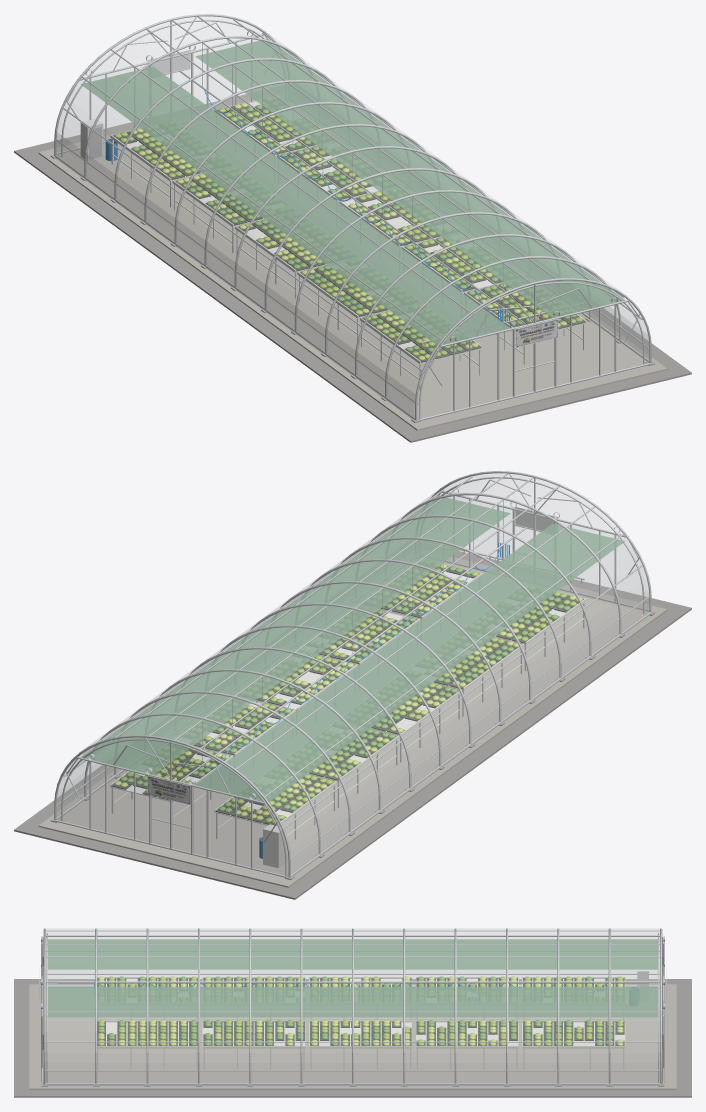
File: vivero.glb
The picture shows the model from 3 angles, top to bottom: view 1: azimuth 30°, elevation 25°; view 2: azimuth 150°, elevation 25°; view 3: azimuth 270°, elevation 25°; orthographic projection. The views are drawn at different scales.
Visible parts, largest first — view 1: plastico_cubierta, malla_sombra, piso, acero, malla_frontones, grava_borde, malla_lateral, bandeja, metal_blanco, planta_verde1, planta_verde2, planta_verde3 (+3 smaller); view 2: plastico_cubierta, malla_sombra, piso, acero, malla_frontones, grava_borde, malla_lateral, bandeja, metal_blanco, planta_verde2, planta_verde1, planta_verde3 (+4 smaller); view 3: plastico_cubierta, malla_sombra, piso, acero, malla_lateral, grava_borde, metal_blanco, bandeja, planta_verde1, planta_verde2, planta_verde3.
Part boxes in pixels (x1,y1,x2,y2): plastico_cubierta: (55, 14, 627, 392); malla_sombra: (80, 38, 624, 345); piso: (38, 100, 667, 430); acero: (54, 14, 651, 420); malla_frontones: (57, 36, 650, 419); grava_borde: (14, 94, 691, 442); malla_lateral: (54, 131, 648, 419); bandeja: (113, 105, 585, 362); metal_blanco: (110, 101, 586, 389); planta_verde1: (114, 106, 582, 356); planta_verde2: (132, 104, 576, 352); planta_verde3: (129, 102, 567, 360); plastico_cubierta: (78, 471, 650, 849); malla_sombra: (81, 495, 625, 802); piso: (38, 557, 667, 887); acero: (54, 471, 651, 877); malla_frontones: (55, 493, 648, 876); grava_borde: (14, 551, 691, 899); malla_lateral: (57, 588, 651, 876); bandeja: (111, 566, 583, 825); metal_blanco: (110, 569, 586, 839); planta_verde2: (120, 566, 570, 812); planta_verde1: (153, 570, 576, 823); planta_verde3: (114, 564, 582, 820); plastico_cubierta: (45, 928, 660, 1061); malla_sombra: (47, 939, 658, 1017); piso: (29, 984, 676, 1089); acero: (41, 928, 664, 1085); malla_lateral: (45, 965, 660, 1085); grava_borde: (14, 979, 691, 1097); metal_blanco: (97, 976, 625, 1069); bandeja: (97, 978, 624, 1045); planta_verde1: (97, 976, 623, 1045); planta_verde2: (97, 976, 613, 1045); planta_verde3: (97, 976, 623, 1045).
Bounding box in the file's own units: 10.8 × 4.15 × 26.4.
Materials: 19 (1 with a texture image).
